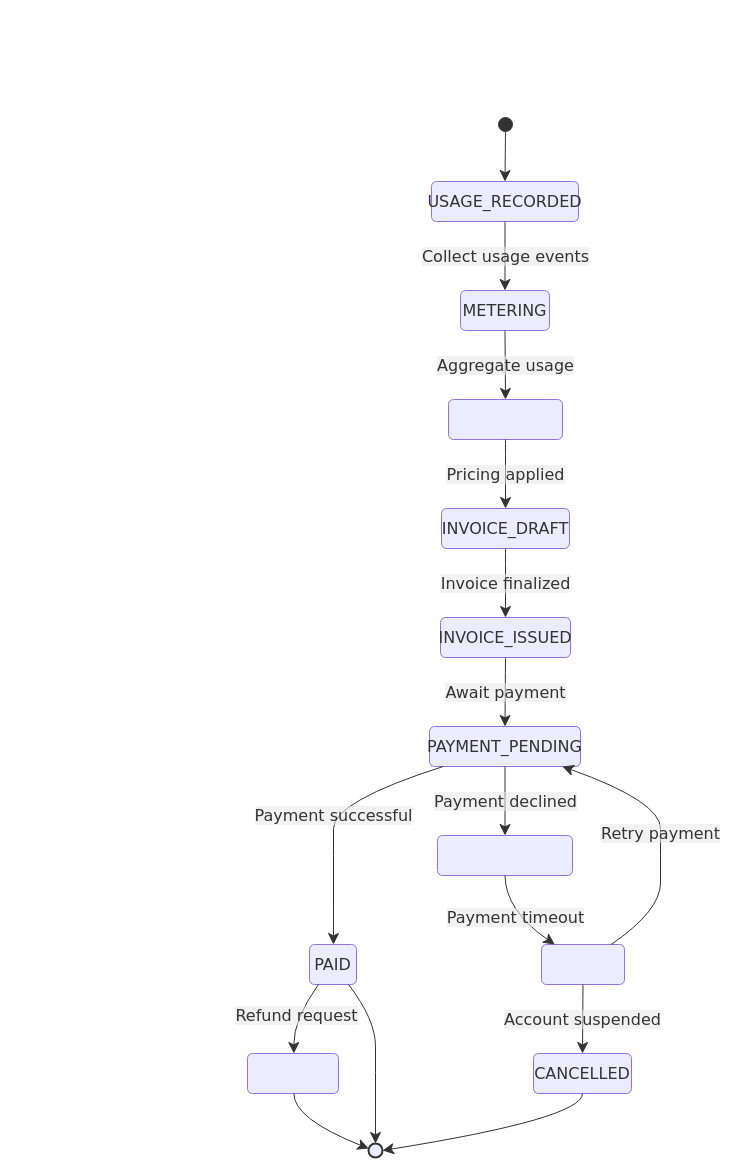
The diagram is 737 pixels wide and 1175 high, and some of its shapes have lost their labels. Each missing label, with the box of its shape:
CALCULATING: (448, 398, 562, 440)
OVERDUE: (540, 944, 624, 984)
PAYMENT_FAILED: (436, 834, 572, 876)
REFUNDED: (246, 1052, 338, 1094)
